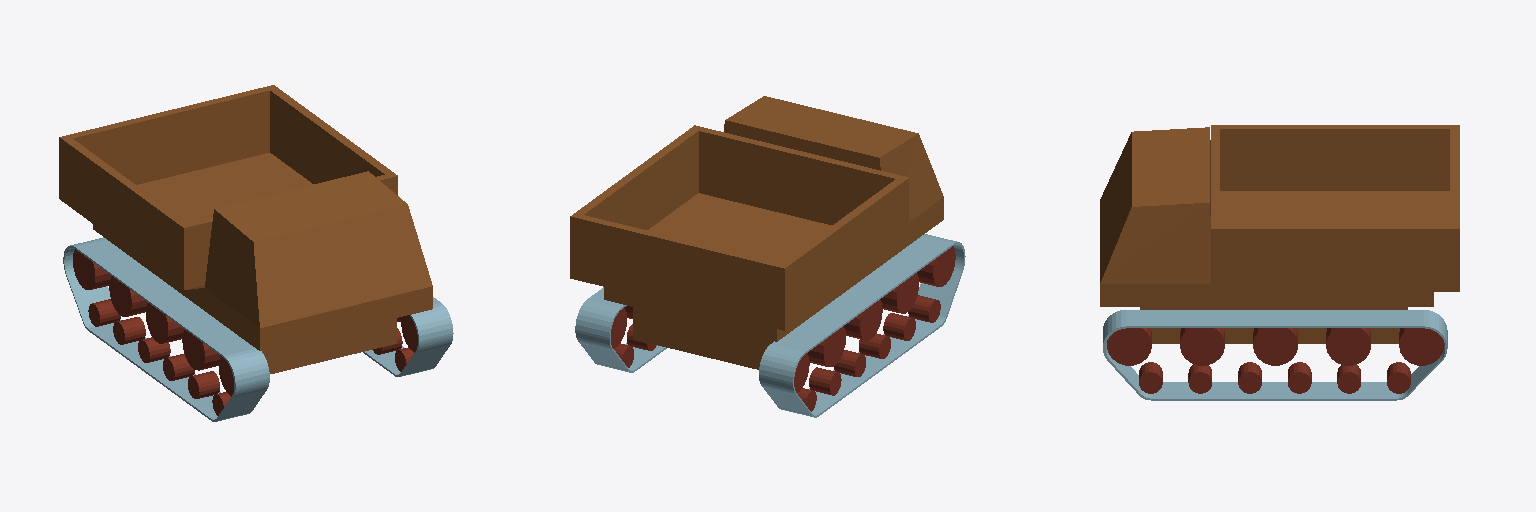
The model's file is drone.obj.
3 views of the same model, side by side, from view 1: azimuth 30°, elevation 25°; view 2: azimuth 150°, elevation 25°; view 3: azimuth 270°, elevation 25° (orthographic).
Parts seen in each view (by area): view 1: RecyclerBody; view 2: RecyclerBody; view 3: RecyclerBody.
Boxes of the visible parts, x1,y1,x2,y2 form: RecyclerBody: [59, 85, 453, 421]; RecyclerBody: [570, 96, 965, 417]; RecyclerBody: [1100, 125, 1459, 400].
Size of the model in its own units: 10.5 by 8.42 by 15.02.